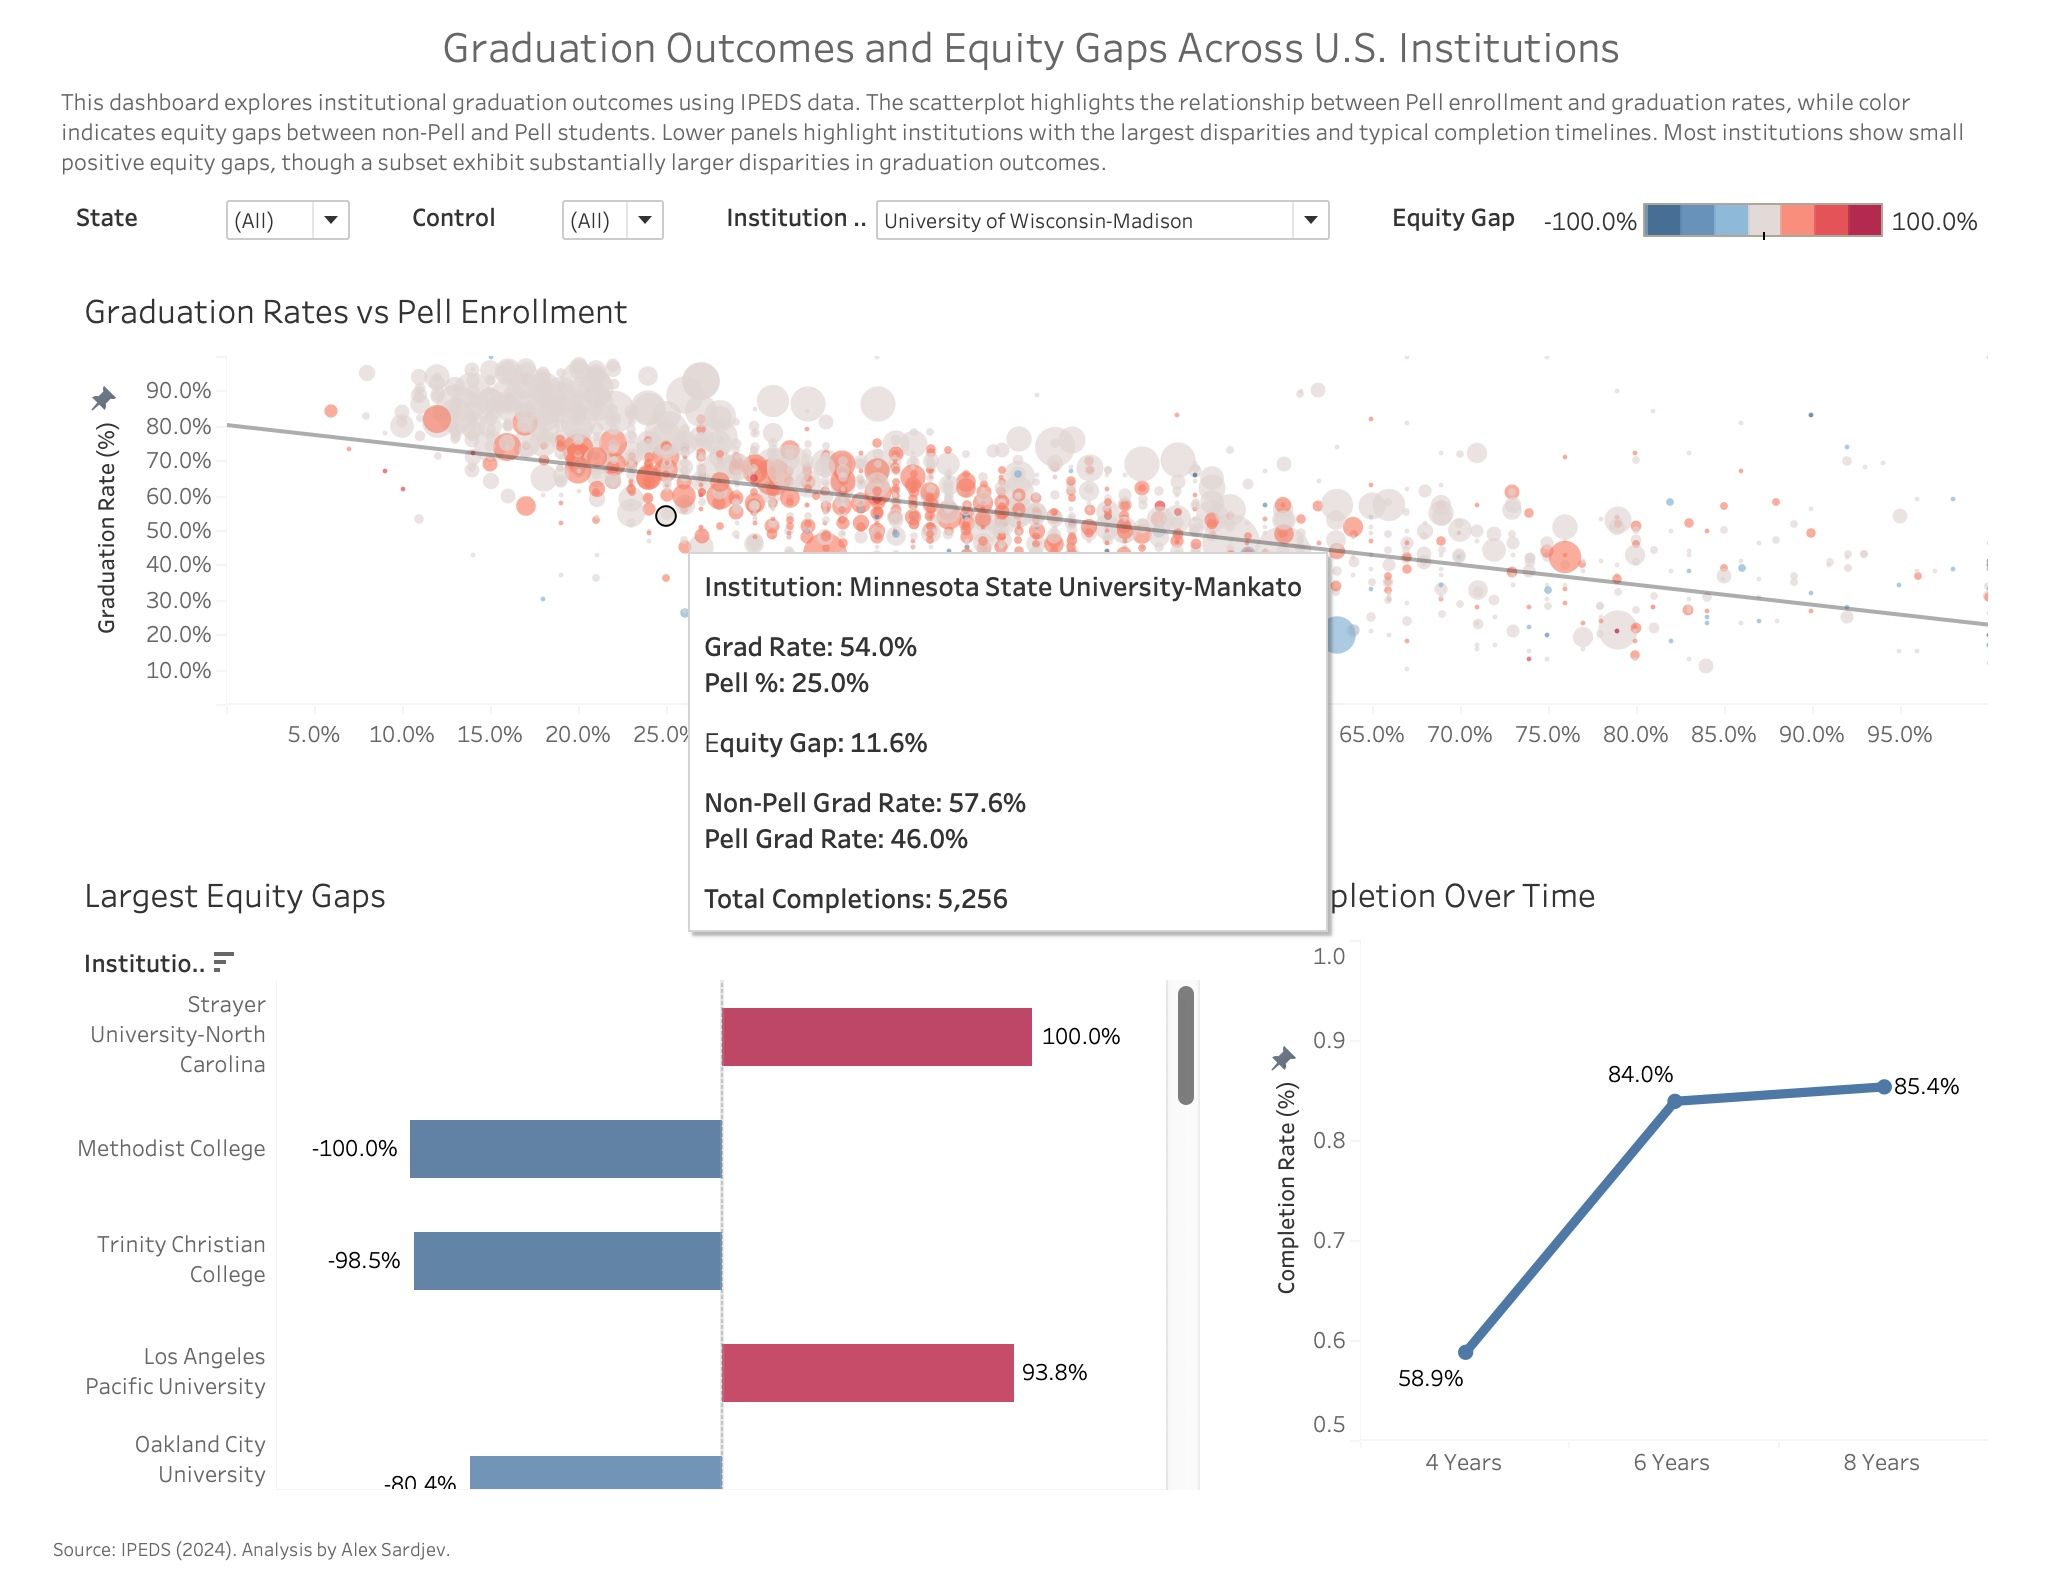

Layout of this report page (visuals, bound fields, positions):
{"tool":"tableau","page":{"name":"Dashboard 1","canvas":[1000,800],"ordinal":0},"visuals":[{"type":"text","box":[8,8,984,33.1]},{"type":"text","box":[8,41.1,984,53.9]},{"type":"filter","title":"Pell % vs Graduation Rate","param":"[federated.05pf1bg0tkv2ib16qgv500xd692z].[none:state:nk]","box":[8,95,168,32]},{"type":"filter","title":"Pell % vs Graduation Rate","param":"[federated.05pf1bg0tkv2ib16qgv500xd692z].[none:control:nk]","box":[176,95,157,32]},{"type":"filter","title":"Completion Timeline","param":"[federated.05pf1bg0tkv2ib16qgv500xd692z].[none:institution_name:nk]","box":[333,95,333,32]},{"type":"legend","title":"Pell % vs Graduation Rate","param":"[federated.05pf1bg0tkv2ib16qgv500xd692z].[avg:Calculation_6862391730692097:qk]","box":[666,95,326,32]},{"type":"worksheet","title":"Pell % vs Graduation Rate","mark":"Circle","rows":["grad_rate"],"cols":["pell_pct"],"box":[8,127,984,292]},{"type":"worksheet","title":"Top 15 Equity Gap","mark":"Bar","rows":["institution_name"],"cols":["Calculation_6862391730692097"],"box":[8,419,590,341]},{"type":"worksheet","title":"Completion Timeline","mark":"Line","box":[598,419,394,341]},{"type":"text","box":[8,760,984,32]}]}

Visuals, with their boxes on the page's 1000x800 design canvas (x1, y1, x2, y2). These are canvas units, not pixel positions in the 2054x1590 screenshot, which may show the page scaled, cropped or inside an application window:
text: (left=8, top=8, right=992, bottom=41)
text: (left=8, top=41, right=992, bottom=95)
"Pell % vs Graduation Rate" filter: (left=8, top=95, right=176, bottom=127)
"Pell % vs Graduation Rate" filter: (left=176, top=95, right=333, bottom=127)
"Completion Timeline" filter: (left=333, top=95, right=666, bottom=127)
"Pell % vs Graduation Rate" legend: (left=666, top=95, right=992, bottom=127)
"Pell % vs Graduation Rate" worksheet (Circle marks): (left=8, top=127, right=992, bottom=419)
"Top 15 Equity Gap" worksheet (Bar marks): (left=8, top=419, right=598, bottom=760)
"Completion Timeline" worksheet (Line marks): (left=598, top=419, right=992, bottom=760)
text: (left=8, top=760, right=992, bottom=792)
